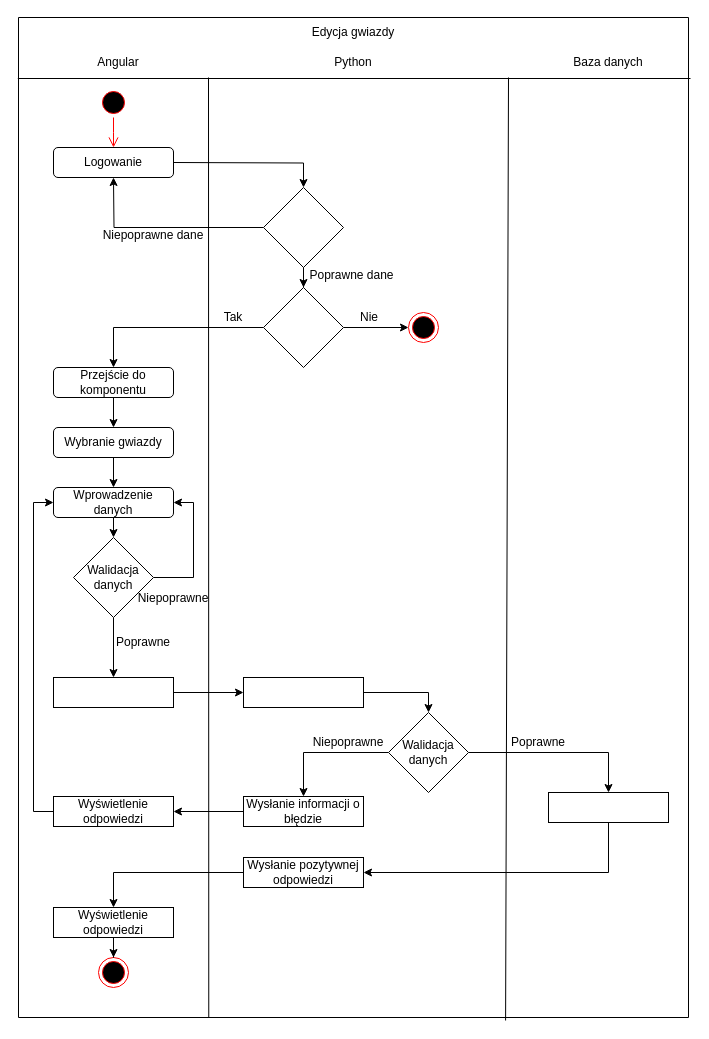
Some shapes in this 709 by 1039 pixel diagram are drawn without their labels. Here are the shapes that lost their labels. From the top down, the box of each, then its label:
(262, 186, 344, 268): Sprawdzenie danych
(262, 286, 344, 368): Posiadanie uprawnień
(52, 676, 174, 708): Wysłanie danych
(242, 676, 364, 708): Odbiór danych
(548, 792, 668, 822): Zapis danych
